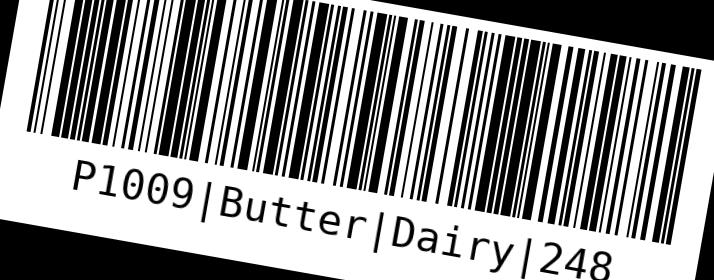milk: (12, 0, 713, 279)
